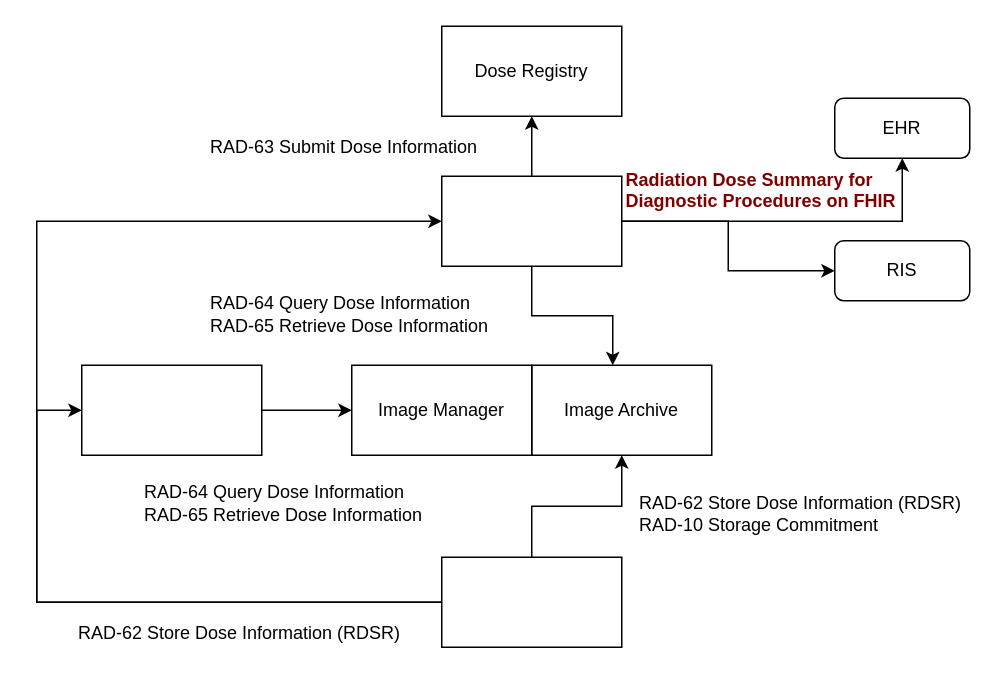
This 996x683 diagram has some shape labels left out. Each missing label, with the centre of its shape:
"Acquisition Modality" belongs at point (531, 601).
"Dose Consumer" belongs at point (171, 409).
"Dose Reporter" belongs at point (531, 220).
